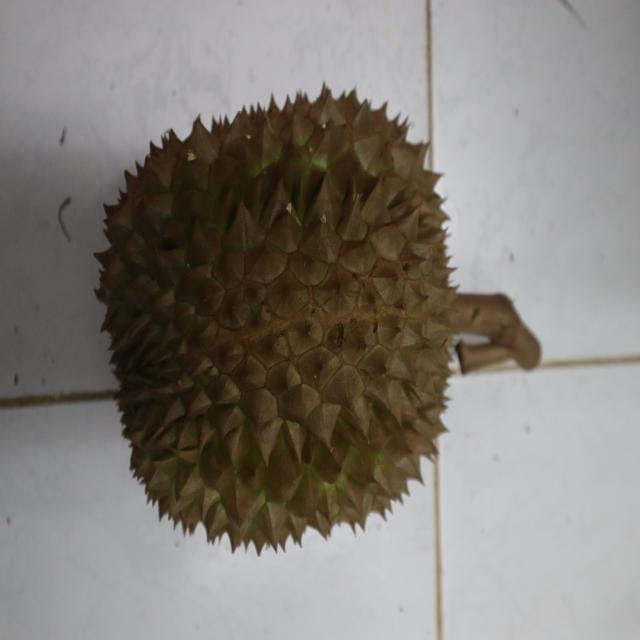mature: (96, 87, 457, 559)
